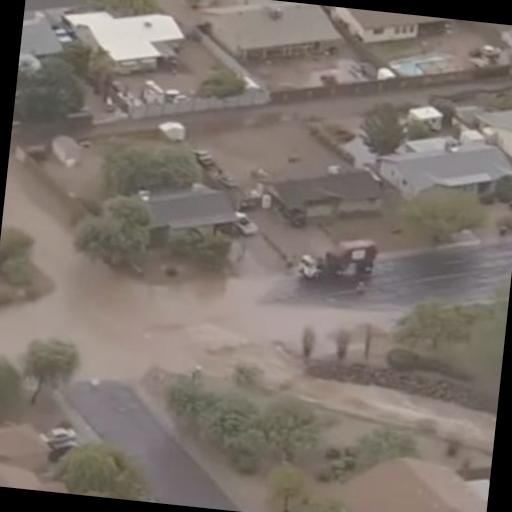flood: (0, 150, 512, 383), (184, 109, 329, 171)
house: (185, 0, 346, 82), (0, 411, 127, 498), (380, 131, 512, 212), (333, 449, 491, 512), (62, 4, 186, 84), (266, 160, 388, 239), (129, 173, 244, 251), (316, 6, 459, 54), (16, 10, 64, 98)
